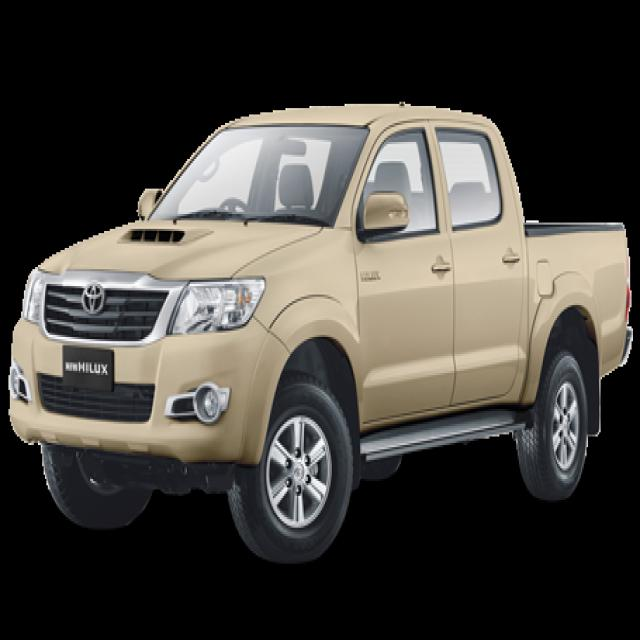light_vehicle: (4, 89, 634, 562)
